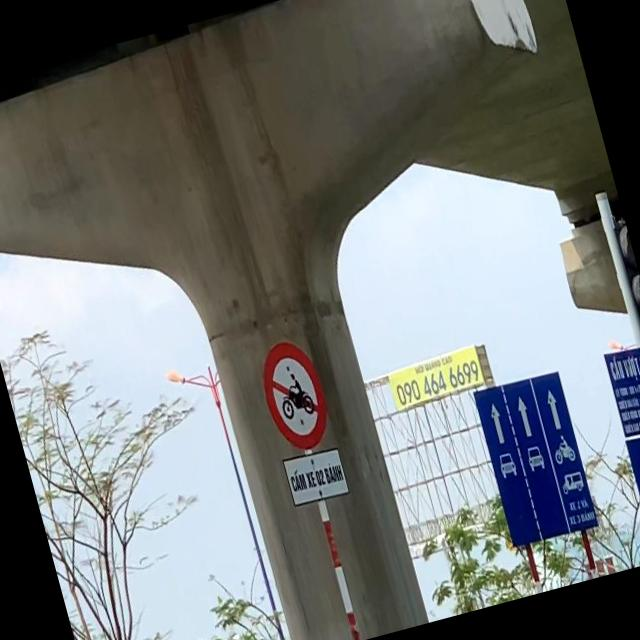I-407a: (622, 428, 640, 537)
P-104: (254, 335, 335, 454)
